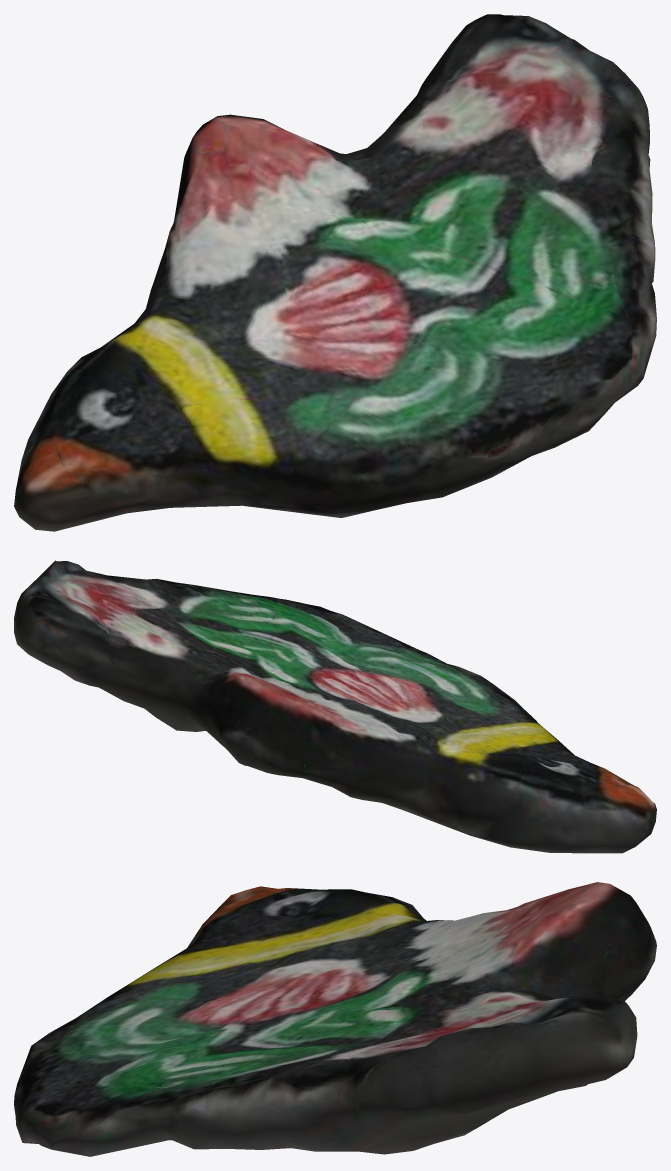
The model's file is hall.glb.
The picture shows the model from 3 angles, top to bottom: view 1: azimuth 30°, elevation 25°; view 2: azimuth 150°, elevation 25°; view 3: azimuth 270°, elevation 25°; orthographic projection. The views are drawn at different scales.
Size of the model in its own units: 0.5985 by 0.2227 by 0.4135.
1 material, 1 textured.
